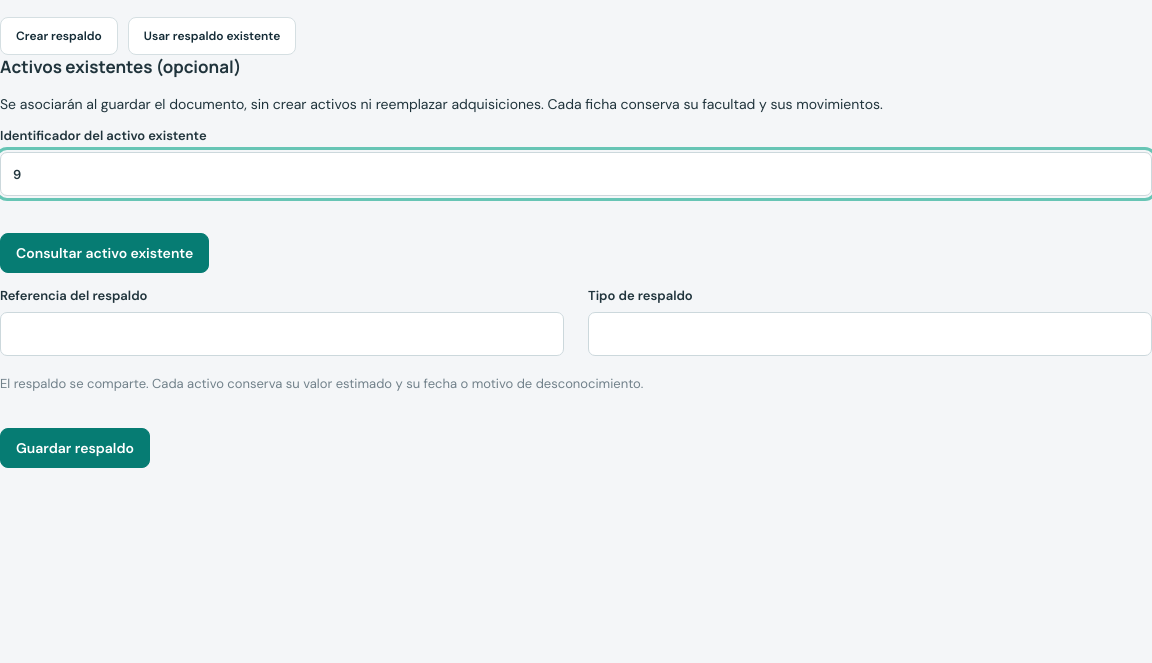
Test: donación usa estimated_value y revisión consultada al asociar activo existente
Earlier steps of the test are not shown.
Click the button "Consultar activo existente": x=105, y=253 [0,233,209,273]
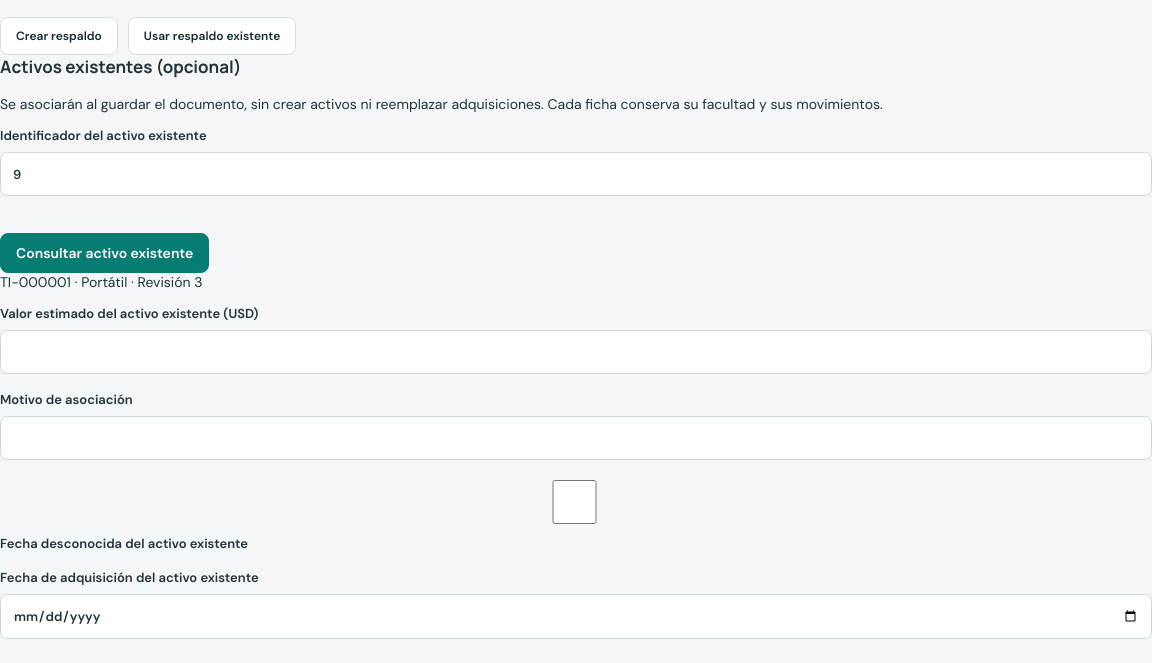
In the field labelled "Valor estimado del activo existente (USD)": x=576, y=352 [0,330,1151,374], type "55.50"
In the field labelled "Motivo de asociación": x=576, y=438 [0,416,1151,460], type "Acta verificada"
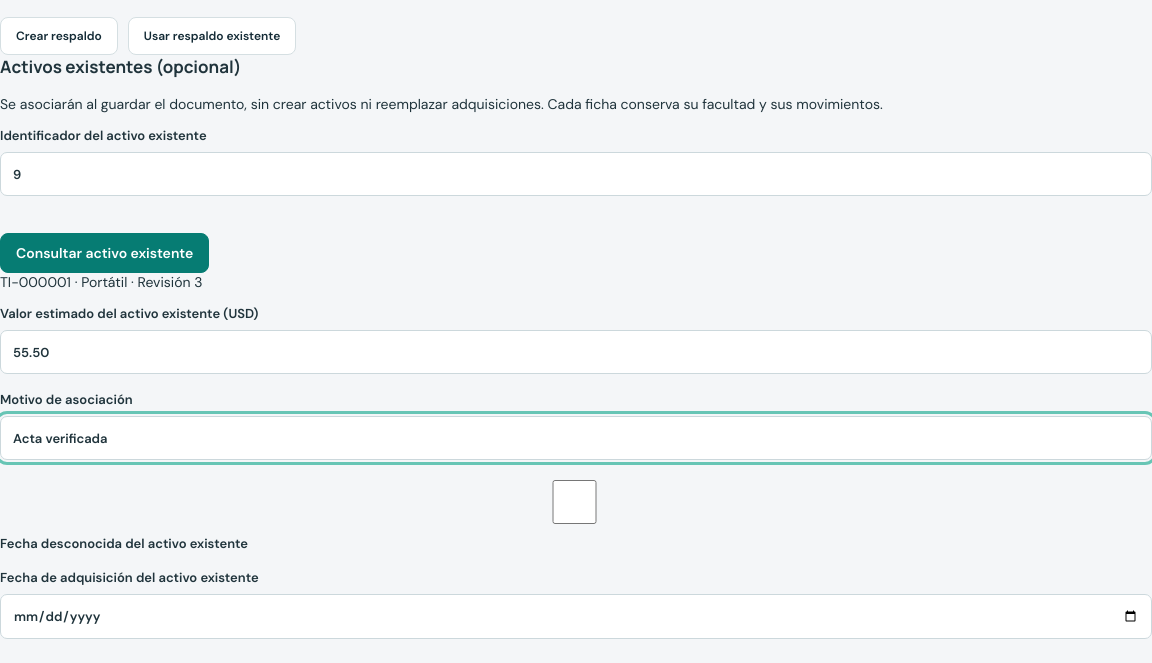
In the date field labelled "Fecha de adquisición del activo existente": x=576, y=617 [0,594,1151,639], type "2026-01-15"
(page scrolled)
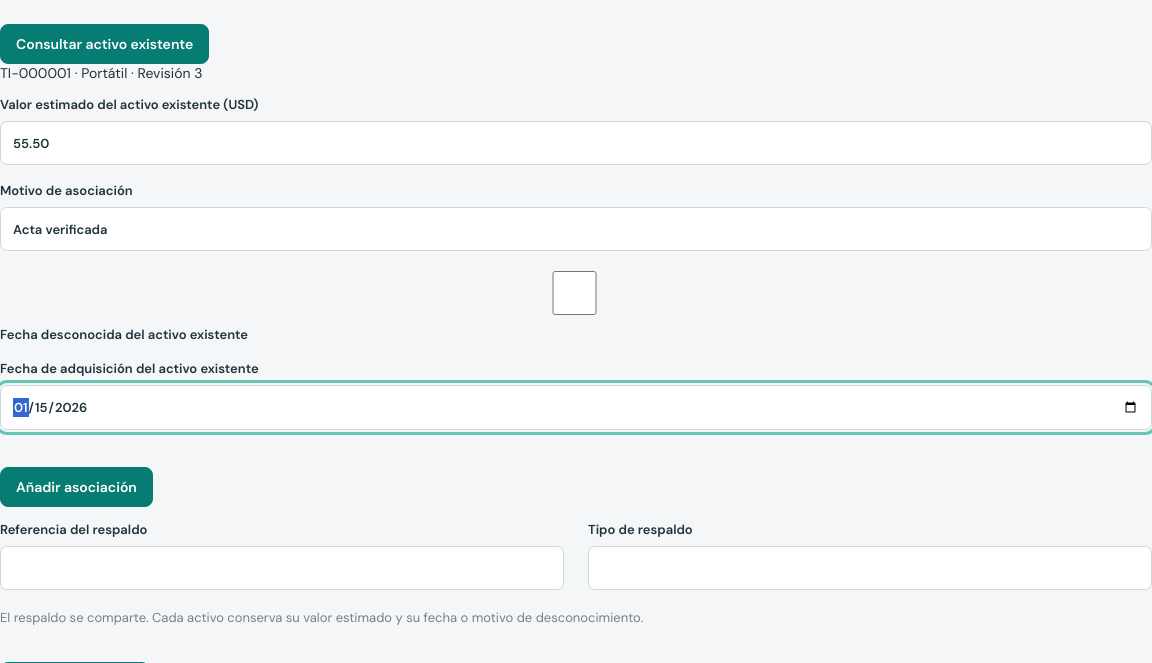
Click the button "Añadir asociación": x=76, y=487 [0,467,153,507]
(page scrolled)
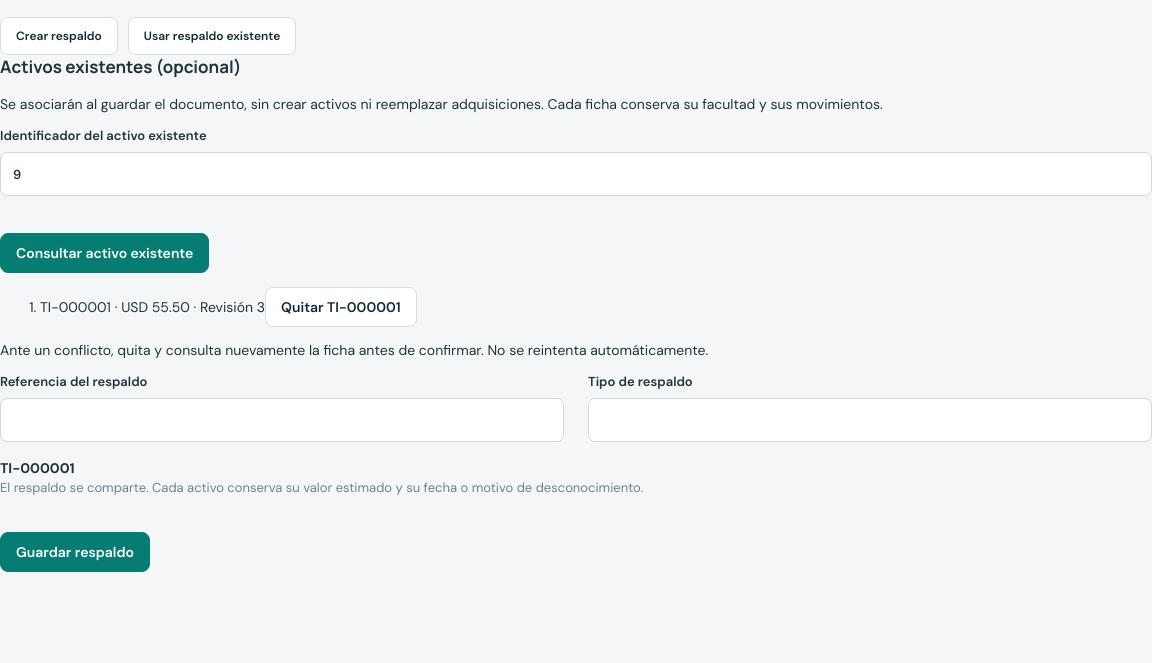
In the field labelled "Referencia del respaldo": x=282, y=420 [0,398,564,442], type "TEST-ACTA"
In the field labelled "Tipo de respaldo": x=870, y=420 [588,398,1151,442], type "Acta ficticia"
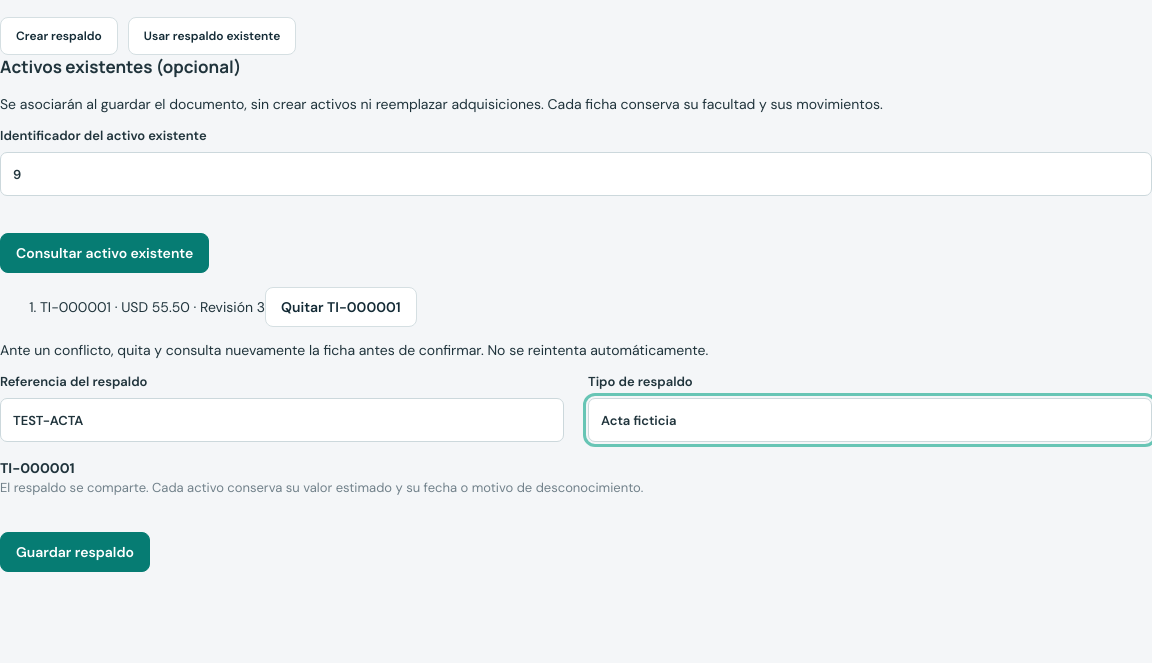
Click the button "Guardar respaldo": x=75, y=552 [0,532,150,572]
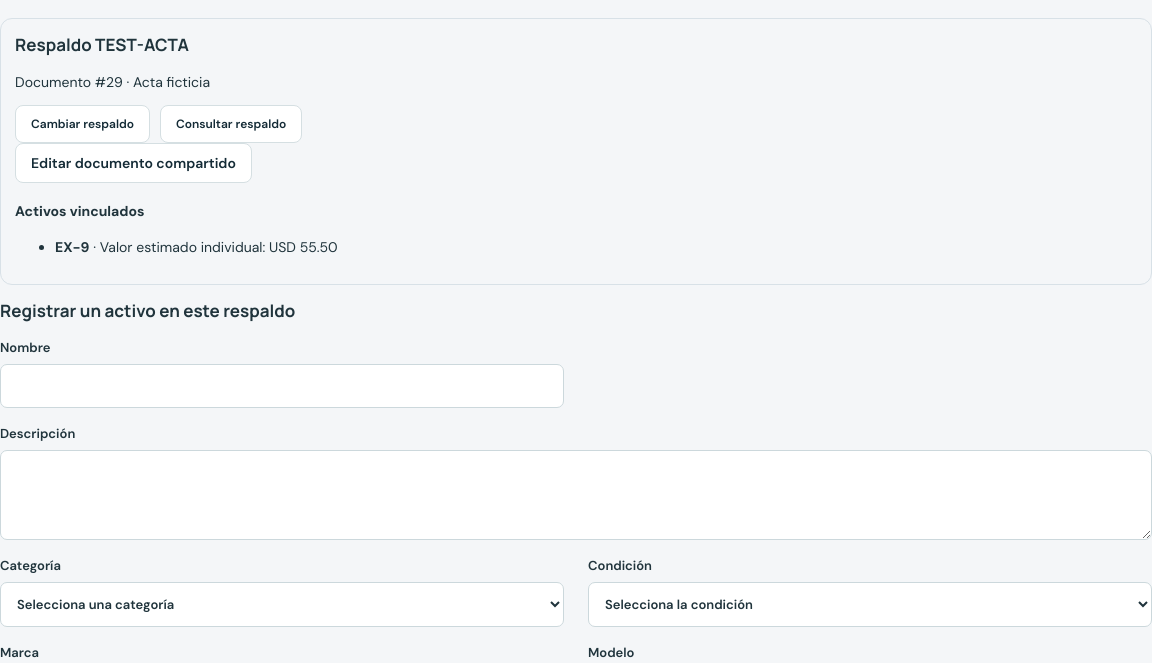
Now the text "EX-9" is shown, box [55,238,90,256]
